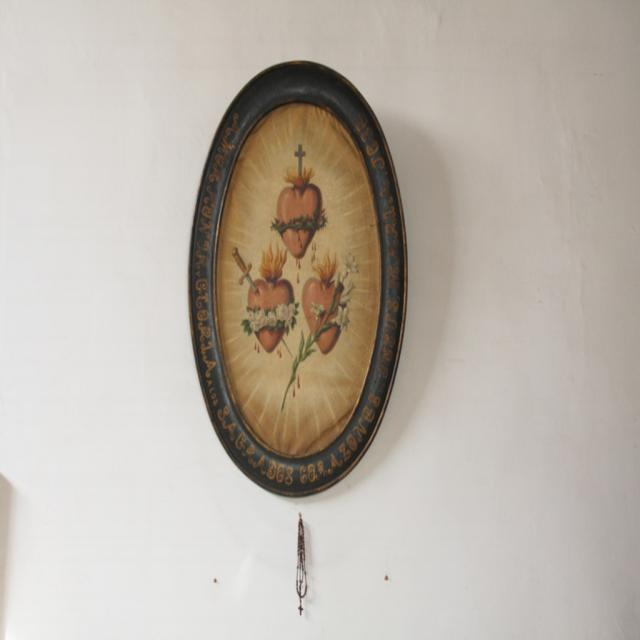ceramic plate: (184, 51, 406, 508)
